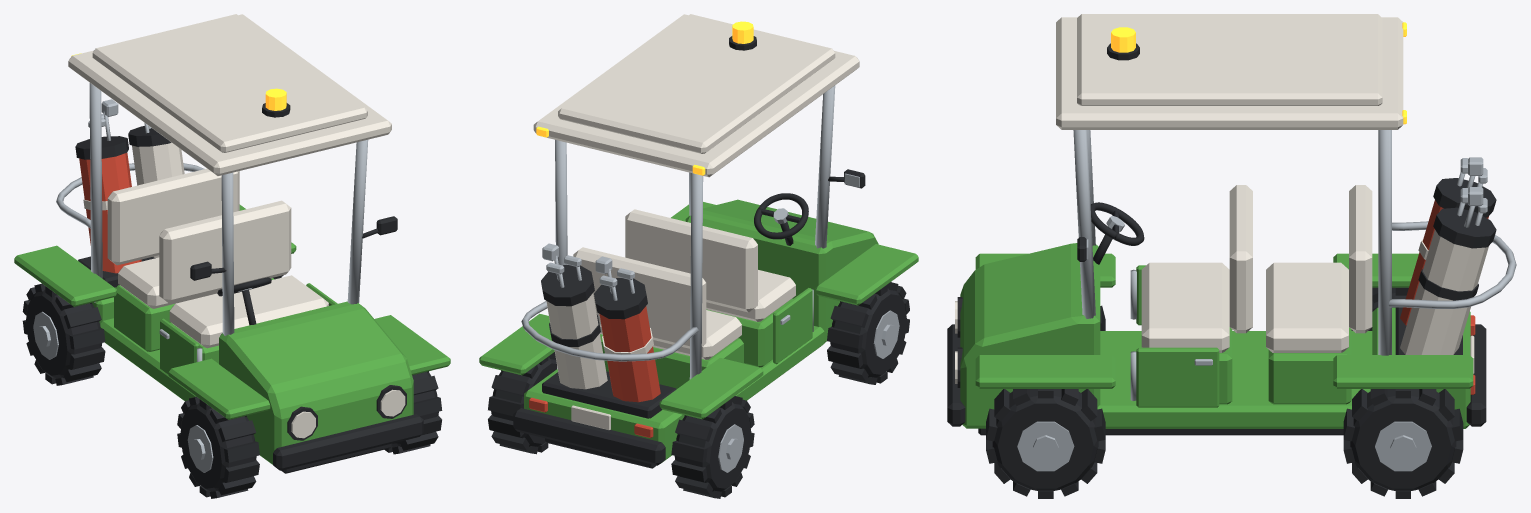
The model's file is low-poly-golf-cart.glb.
3 renders of one model, left to right at view 1: azimuth 30°, elevation 25°; view 2: azimuth 150°, elevation 25°; view 3: azimuth 270°, elevation 25°, orthographic. The views are drawn at different scales.
Visible parts, largest first — view 1: Canopy_Crown, Body_Nose, SeatBack_Front, Canopy_Roof, SeatBack_Rear, Wheel_BL, Wheel_FL, SeatCushion_Front, Bumper_Front, Fender_BL, Fender_FL, Post_BL (+18 smaller); view 2: Canopy_Crown, Canopy_Roof, Body_Nose, SeatBack_Front, Wheel_BL, Wheel_FL, SeatBack_Rear, Bumper_Rear, GolfBag_1, GolfBag_2, Fender_BL, Fender_FL (+21 smaller); view 3: Canopy_Crown, Body_Nose, Canopy_Roof, Floor_Deck, Wheel_BR, Wheel_FR, SeatCushion_Front, SeatCushion_Rear, GolfBag_2, Door_R, Fender_BR, Fender_FR (+20 smaller).
Part boxes in pixels (<box>): Canopy_Crown: <box>92,14,367,152</box>; Body_Nose: <box>219,301,413,464</box>; SeatBack_Front: <box>159,200,291,302</box>; Canopy_Roof: <box>68,14,391,175</box>; SeatBack_Rear: <box>107,168,239,265</box>; Wheel_BL: <box>22,283,105,385</box>; Wheel_FL: <box>177,396,259,498</box>; SeatCushion_Front: <box>169,275,328,348</box>; Bumper_Front: <box>273,414,423,470</box>; Fender_BL: <box>14,245,116,306</box>; Fender_FL: <box>168,358,270,419</box>; Post_BL: <box>89,83,102,302</box>; Canopy_Crown: <box>558,14,835,153</box>; Canopy_Roof: <box>533,14,859,177</box>; Body_Nose: <box>685,199,878,342</box>; SeatBack_Front: <box>625,209,757,312</box>; Wheel_BL: <box>671,396,754,498</box>; Wheel_FL: <box>827,282,909,384</box>; SeatBack_Rear: <box>573,247,706,348</box>; Bumper_Rear: <box>513,408,665,465</box>; GolfBag_1: <box>599,306,660,402</box>; GolfBag_2: <box>546,293,607,389</box>; Fender_BL: <box>659,358,763,419</box>; Fender_FL: <box>815,244,918,305</box>; Canopy_Crown: <box>1077,14,1382,105</box>; Body_Nose: <box>960,243,1100,428</box>; Canopy_Roof: <box>1056,17,1403,129</box>; Floor_Deck: <box>1097,331,1372,428</box>; Wheel_BR: <box>1343,389,1463,498</box>; Wheel_FR: <box>986,389,1105,498</box>; SeatCushion_Front: <box>1141,262,1229,352</box>; SeatCushion_Rear: <box>1266,262,1348,352</box>; GolfBag_2: <box>1400,230,1488,354</box>; Door_R: <box>1136,347,1219,407</box>; Fender_BR: <box>1333,355,1473,388</box>; Fender_FR: <box>975,355,1115,388</box>.
Bounding box in the file's own units: 5.82 × 8.65 × 10.99.
